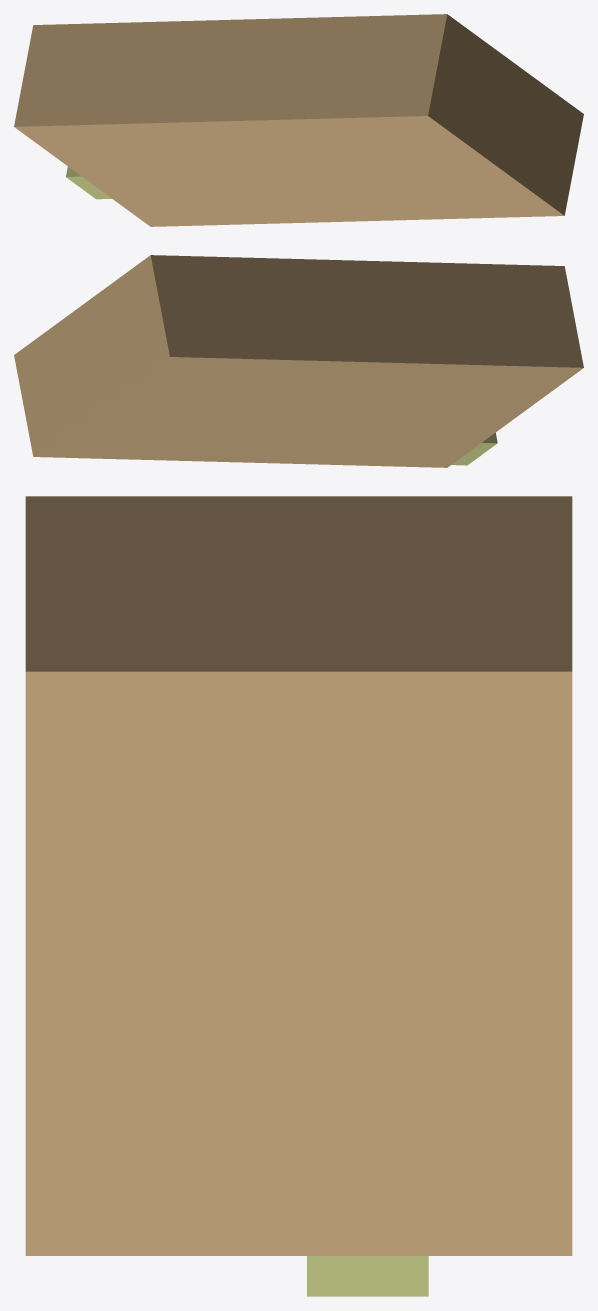
3 views of the same model, one above another, from view 1: azimuth 30°, elevation 25°; view 2: azimuth 150°, elevation 25°; view 3: azimuth 270°, elevation 25° (orthographic). The views are drawn at different scales.
Visible parts, largest first — view 1: 0_3_2_0_2_2_0_1; view 2: 0_3_2_0_2_2_0_1; view 3: 0_3_2_0_2_2_0_1.
Part boxes in pixels (x1,y1,x2,y2): 0_3_2_0_2_2_0_1: (14, 14, 583, 226); 0_3_2_0_2_2_0_1: (14, 255, 583, 467); 0_3_2_0_2_2_0_1: (25, 496, 572, 1296).
Bounding box in the file's own units: 49.43 × 22.73 × 27.
